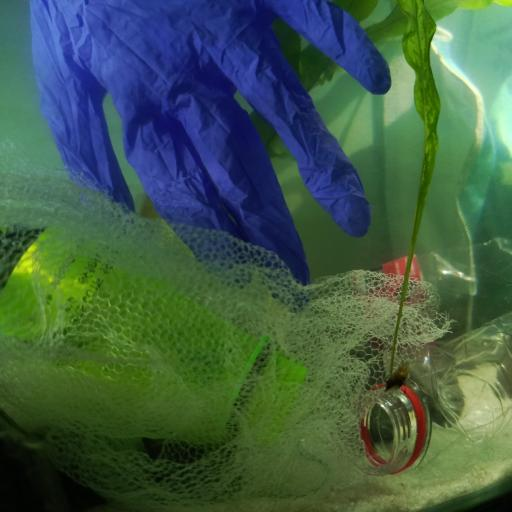glove: (33, 0, 394, 304)
net: (0, 163, 451, 499)
plastic_bottle: (0, 218, 309, 438), (358, 316, 512, 470), (323, 241, 512, 329)
